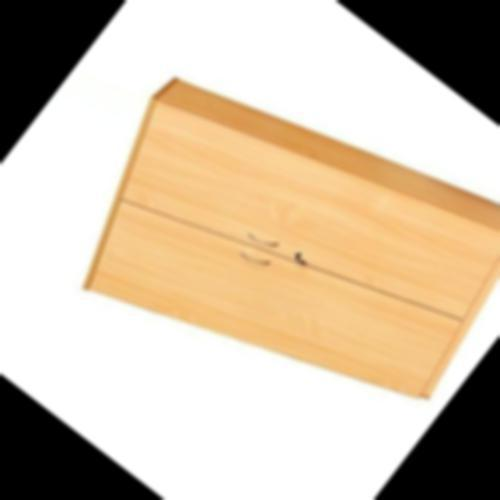Armario: (29, 0, 500, 500)
